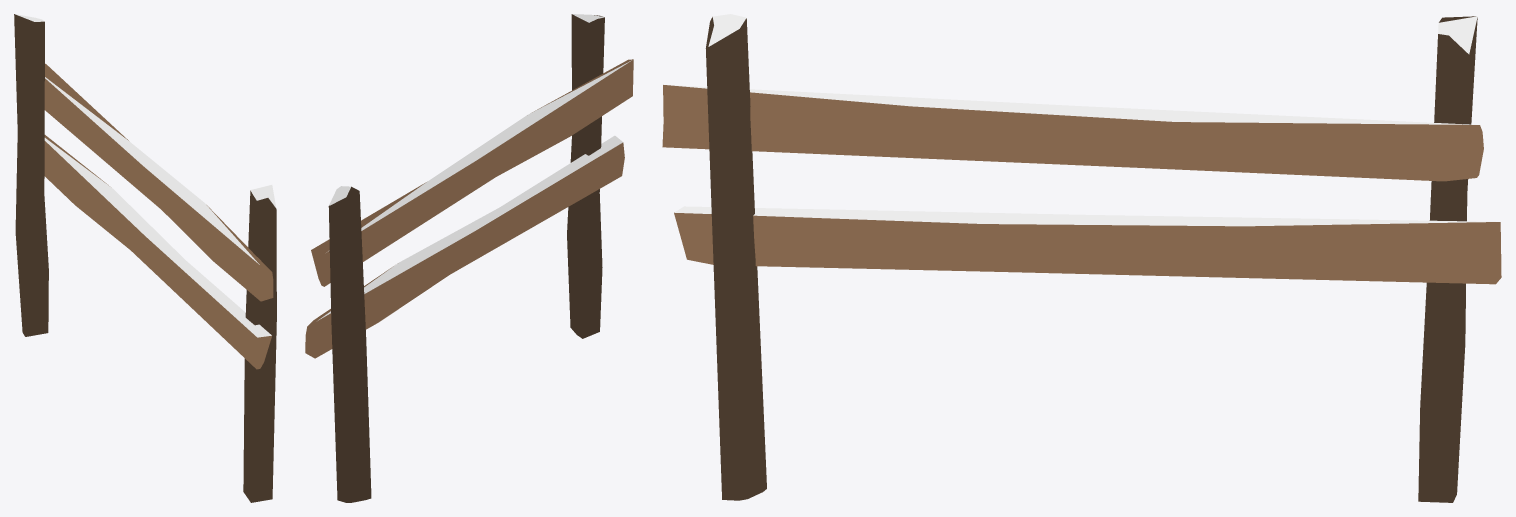
The model's file is fence_snowy_01.dae.
3 renders of one model, left to right at view 1: azimuth 30°, elevation 25°; view 2: azimuth 150°, elevation 25°; view 3: azimuth 270°, elevation 25°, orthographic. The views are drawn at different scales.
Visible parts, largest first — view 1: fence_snowy_01-0; view 2: fence_snowy_01-0; view 3: fence_snowy_01-0.
Part boxes in pixels (box(x1,y1,x2,y2)): fence_snowy_01-0: box(14, 14, 276, 502); fence_snowy_01-0: box(305, 14, 633, 502); fence_snowy_01-0: box(662, 14, 1501, 502).
Bounding box in the file's own units: 0.5481 × 3.05 × 4.86.
